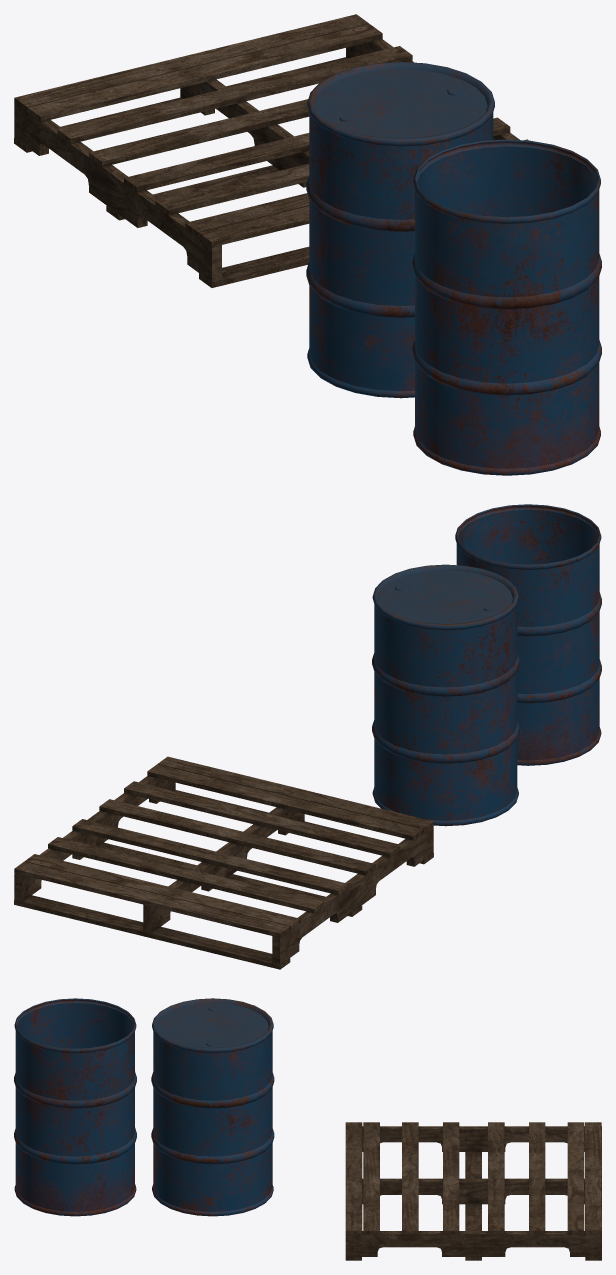
File: barrels_and_pallet.glb
The picture shows the model from 3 angles, top to bottom: view 1: azimuth 30°, elevation 25°; view 2: azimuth 150°, elevation 25°; view 3: azimuth 270°, elevation 25°; orthographic projection. The views are drawn at different scales.
Visible parts, largest first — view 1: g (×3); view 2: g (×3); view 3: g (×3).
Part boxes in pixels (x1=…): g (×3): x1=14, y1=14, x2=601, y2=475; g (×3): x1=14, y1=504, x2=601, y2=969; g (×3): x1=14, y1=998, x2=601, y2=1260.
Size of the model in its own units: 0.8717 by 0.6291 by 2.
Materials: 2 (2 with a texture image).
